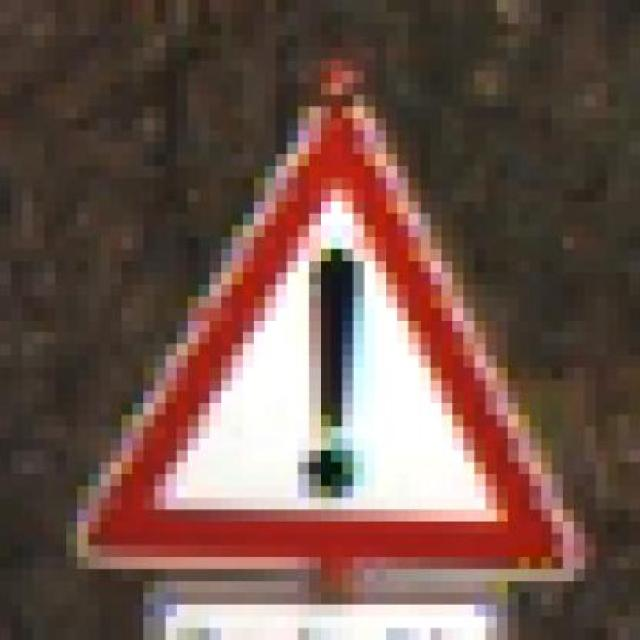Attention Please-: (55, 82, 596, 593)
